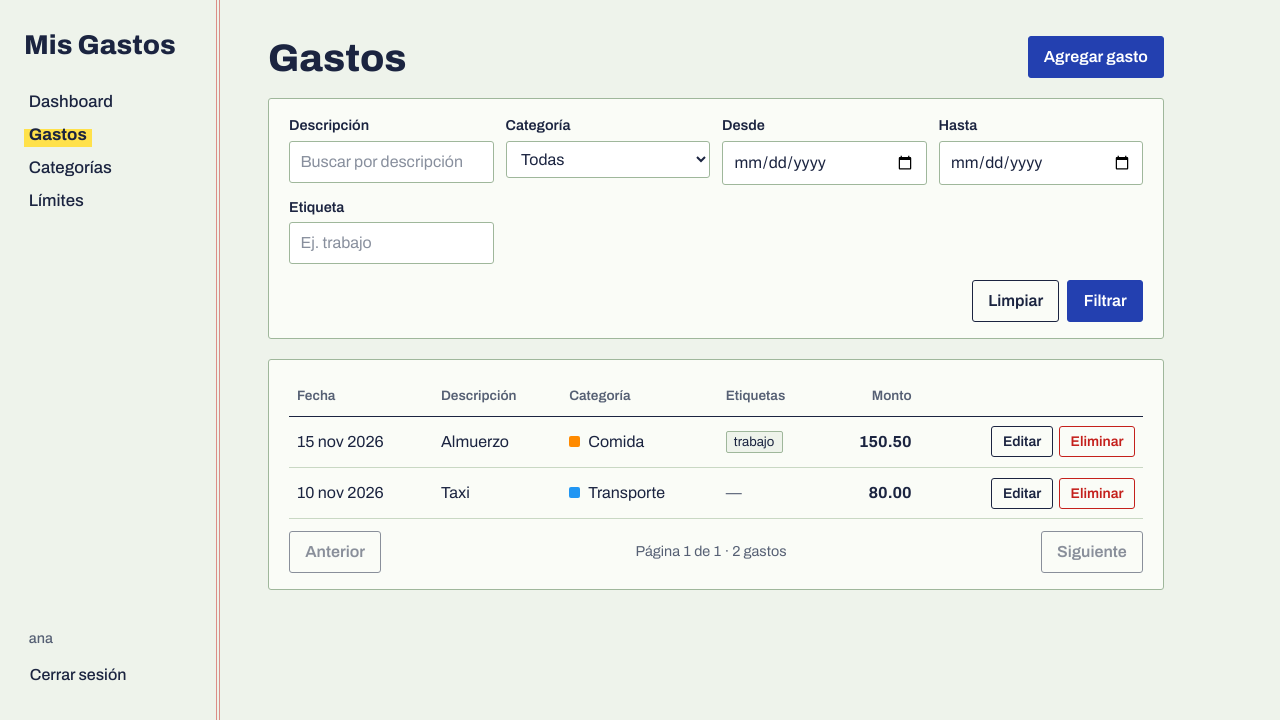
Test: ExpensesPage: add › adds an expense with amount, description, date, category and tags
Expected: the heading "Gastos" is shown, x1=268 y1=38 x2=407 y2=78
Click the button "Agregar gasto" at (1096, 57), box x1=1028 y1=36 x2=1164 y2=78
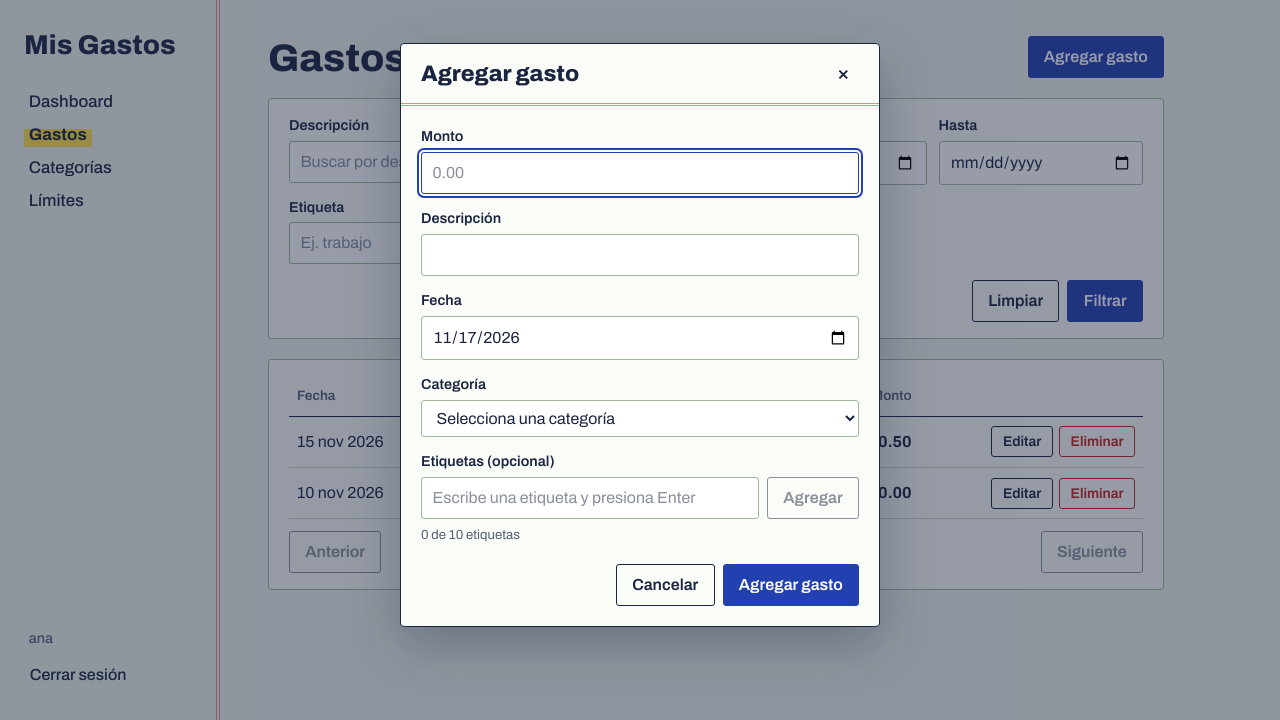
Type "150.50" into the field labelled "Monto" at (640, 173), box x1=421 y1=152 x2=859 y2=194
Type "Almuerzo" into the field labelled "Descripción" at (640, 255), box x1=421 y1=234 x2=859 y2=276
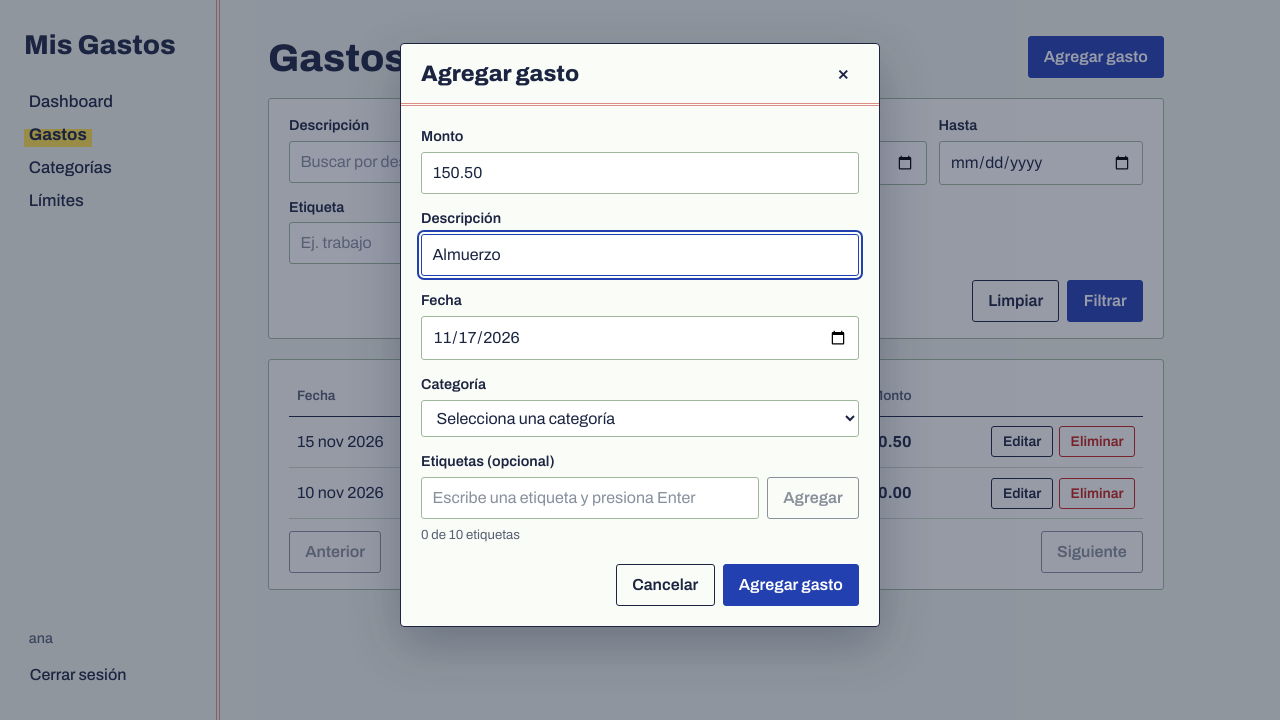
Select "Comida" in the dropdown labelled "Categoría" at (640, 418), box x1=421 y1=400 x2=859 y2=437
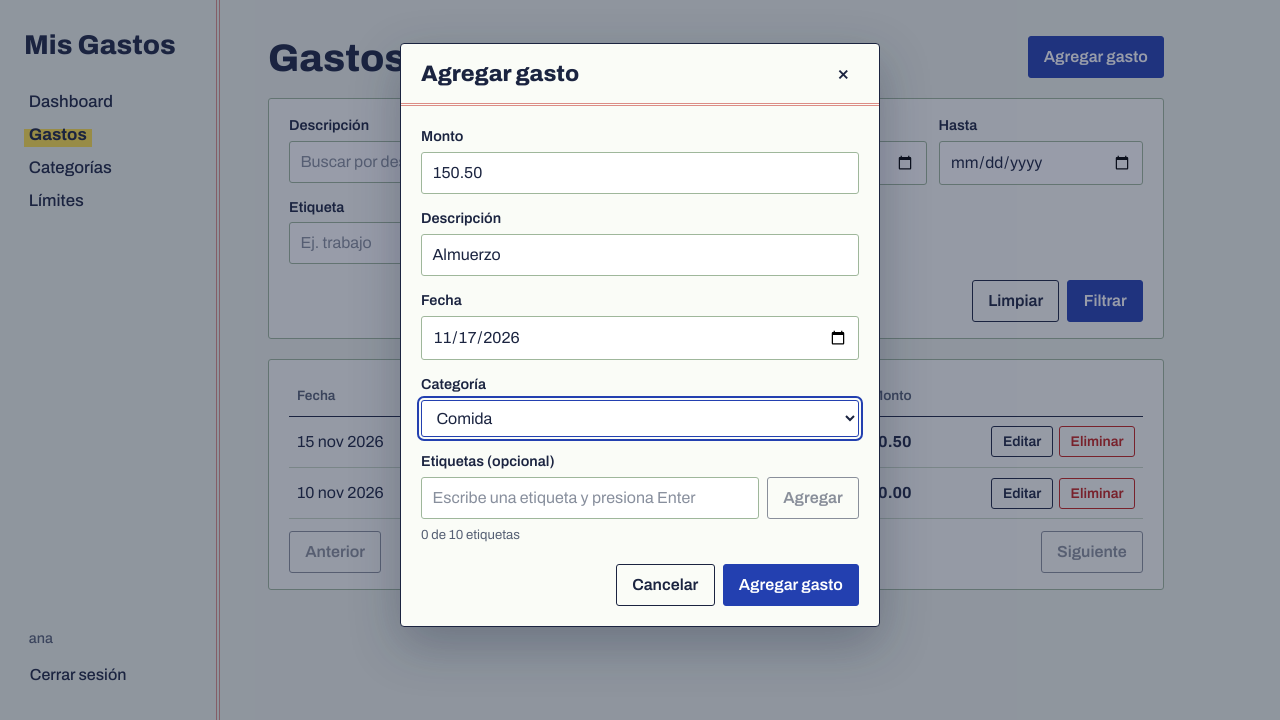
Type " Trabajo " into the field labelled "Etiquetas (opcional)" at (590, 498), box x1=421 y1=477 x2=759 y2=519
Then press Enter
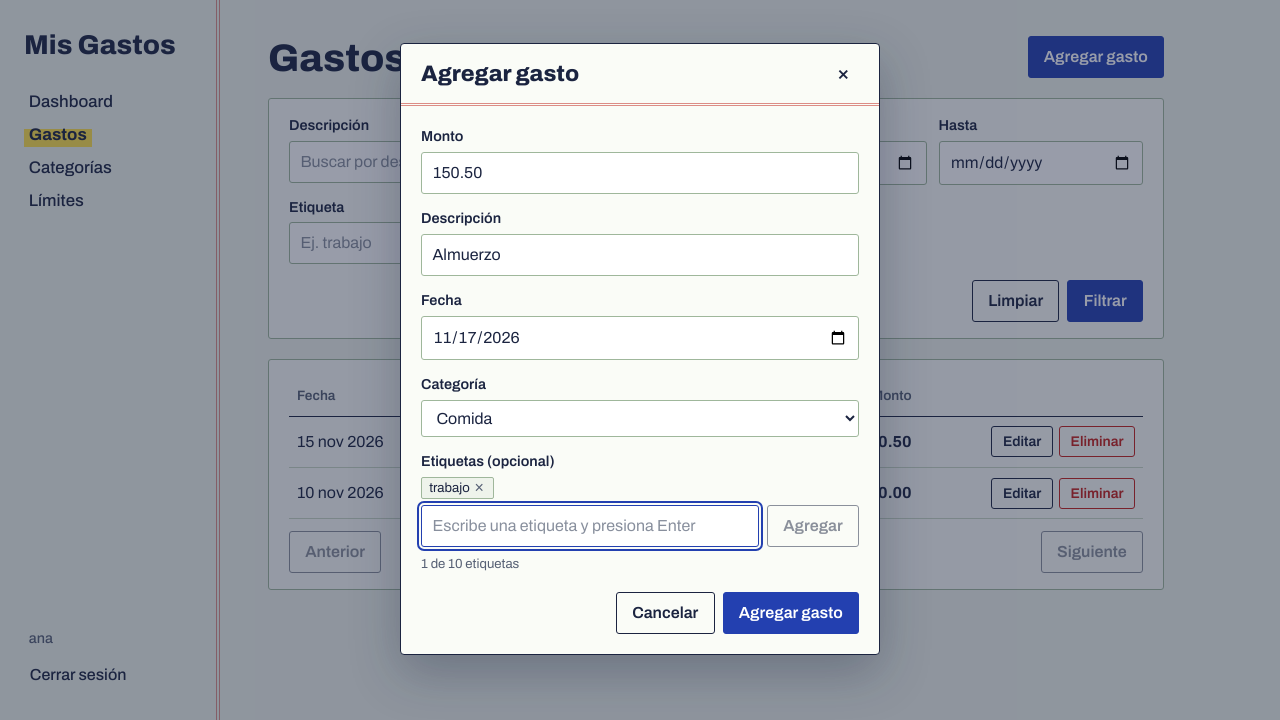
Type "viaje" into the field labelled "Etiquetas (opcional)" at (590, 526), box x1=421 y1=505 x2=759 y2=547
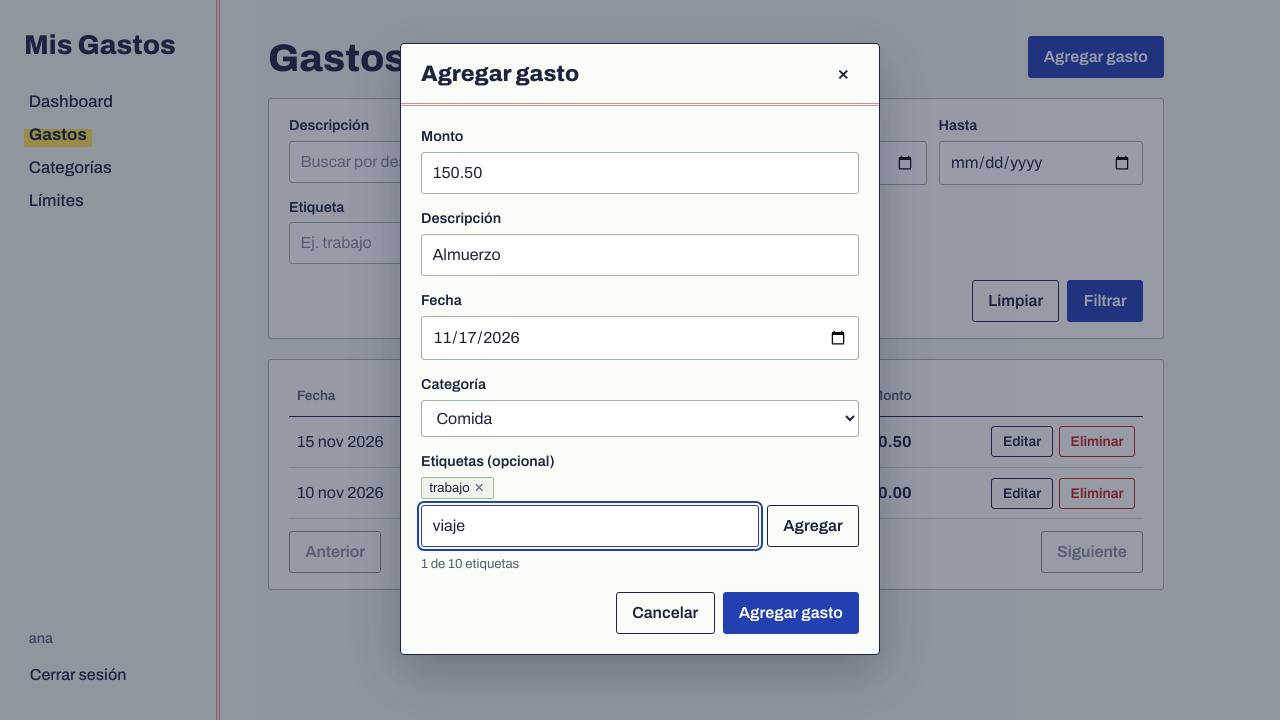
Click the button "Agregar gasto" at (791, 613), box x1=723 y1=592 x2=859 y2=634
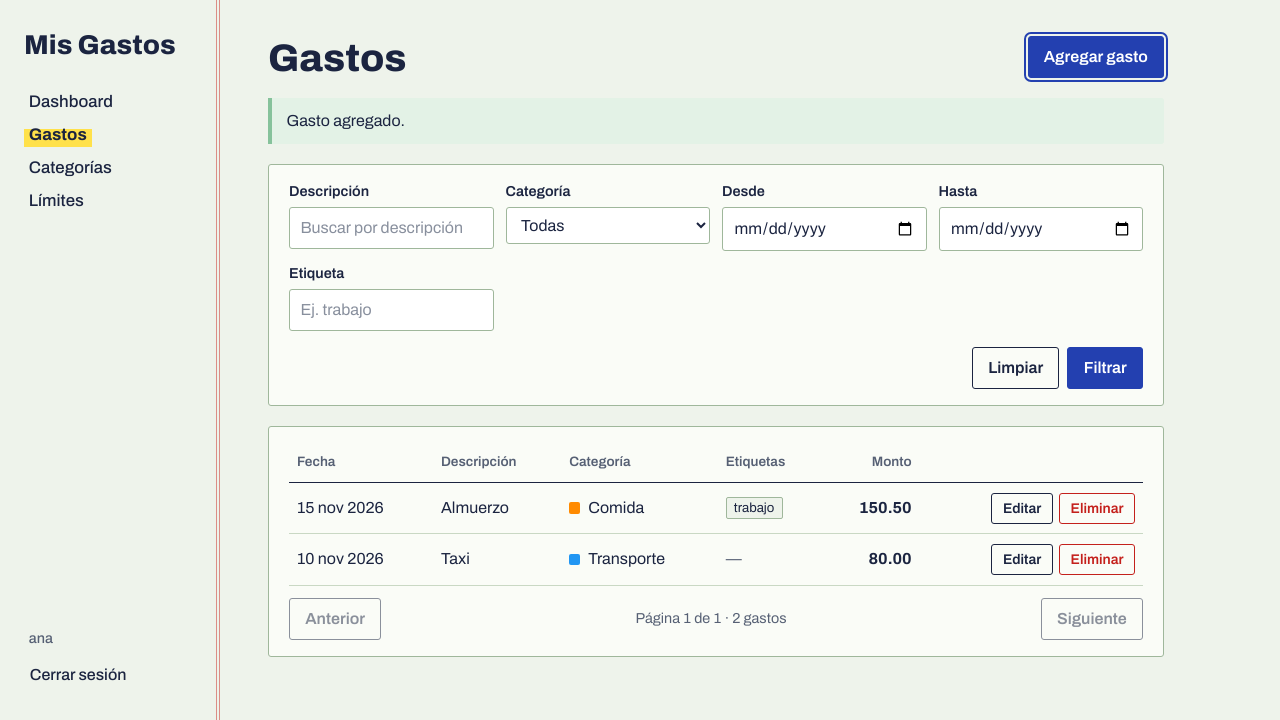
Expected: the text "Gasto agregado." is shown, x1=268 y1=98 x2=1164 y2=144
Expected: the dialog is gone
